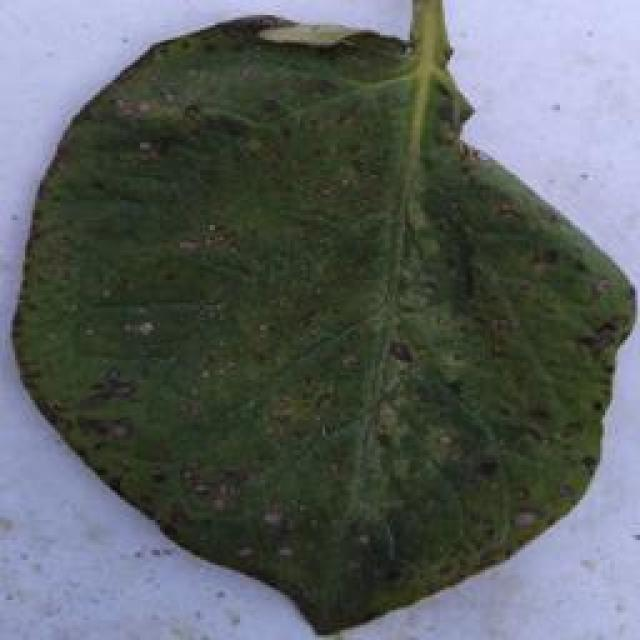Potato_Early_Blight: (4, 9, 637, 636)
